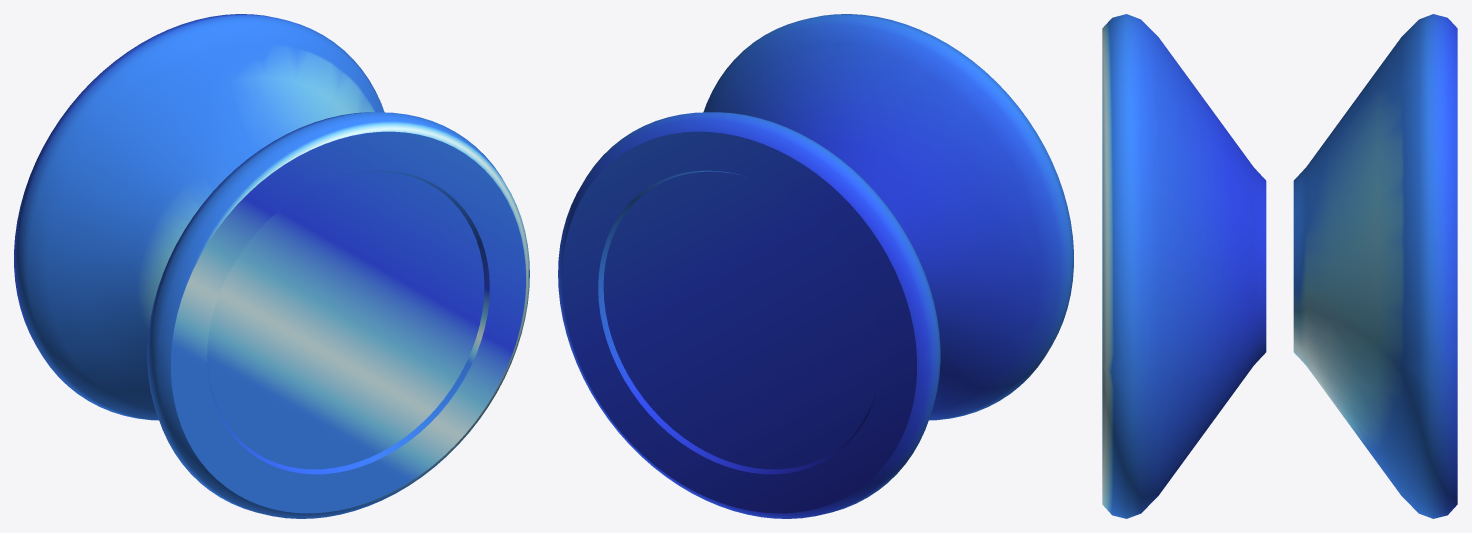
File: yoyo-clear.obj
3 views of the same model, side by side, from view 1: azimuth 30°, elevation 25°; view 2: azimuth 150°, elevation 25°; view 3: azimuth 270°, elevation 25° (orthographic). The views are drawn at different scales.
Bounding box in the file's own units: 57.82 × 57.82 × 40.68.
1 material, 1 textured.
